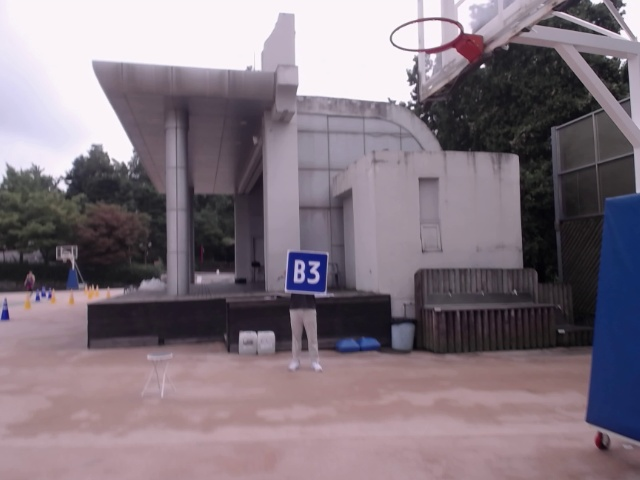delivery_b3: (285, 250, 328, 295)
